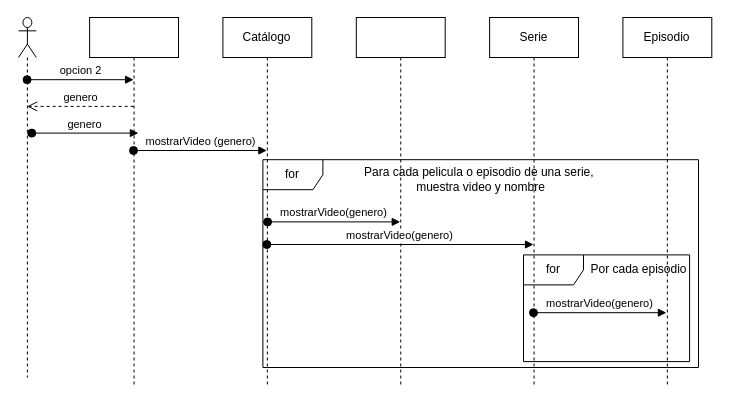
Image size: 730x405. Some labels were removed from this diagram. The shapes that lost their labels are listed below. From the top down, each one's box as (x1, y1, x2, y2) in pixels, then its label:
(89, 16, 178, 388): Streaming
(355, 16, 445, 388): Película
